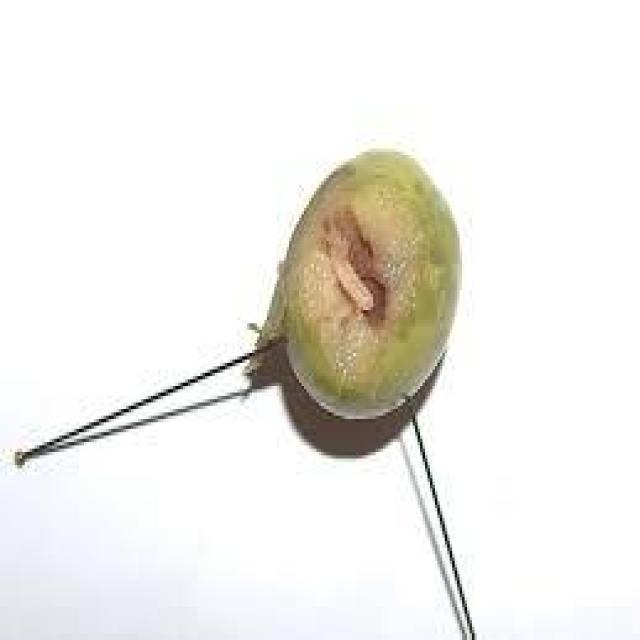Anthracnose: (279, 150, 466, 419)
